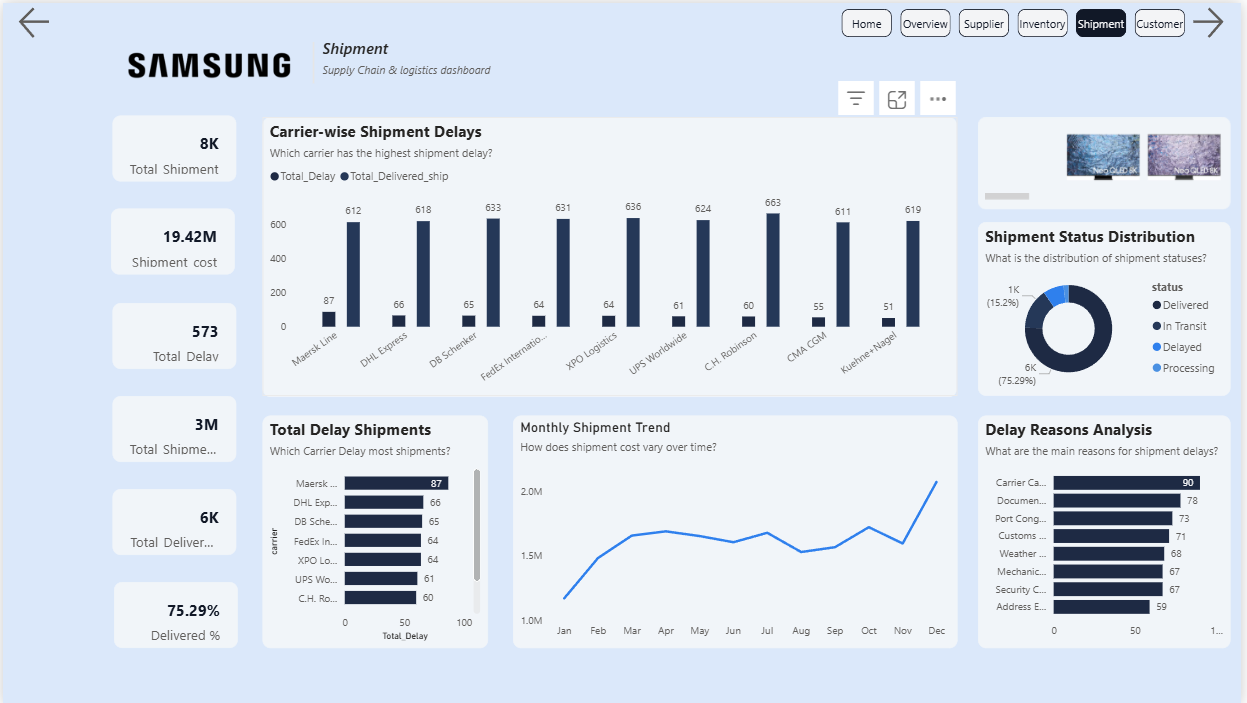

The page's visual inventory and layout, read from the dashboard file:
{"tool":"powerbi","page":{"name":"Shipment","canvas":[1500,850],"ordinal":4},"visuals":[{"type":"shape","title":"Shipment","box":[387.1,41.4,275.7,135.7],"z":0},{"type":"shape","box":[315.7,47.1,120,50],"z":1000},{"type":"image","box":[131.4,12.9,228.6,124.3],"z":2000},{"type":"cardVisual","fields":{"Data":["MeasuresTable.Shipment_cost"]},"box":[131.3,249.7,150,80],"z":3000},{"type":"cardVisual","fields":{"Data":["MeasuresTable.Total_Shipment_Quantity"]},"box":[133.3,475.9,150,80],"z":4000},{"type":"cardVisual","fields":{"Data":["MeasuresTable.Total_Delay"]},"box":[133.3,362.8,150,80],"z":5000},{"type":"cardVisual","fields":{"Data":["MeasuresTable.Delivered %"]},"box":[134,702,150,80],"z":6000},{"type":"cardVisual","fields":{"Data":["MeasuresTable.Total_Delivered_ship"]},"box":[133.3,588.9,150,80],"z":7000},{"type":"cardVisual","fields":{"Data":["MeasuresTable.Total_Shipment"]},"box":[133.3,136.7,150,80],"z":8000},{"type":"clusteredBarChart","title":"Total Delay Shipments","fields":{"Y":["MeasuresTable.Total_Delay"],"Category":["fact_shipment.carrier"]},"box":[315.3,500.4,273.1,282.3],"z":9000},{"type":"clusteredColumnChart","title":"Carrier-wise Shipment Delays","fields":{"Y":["MeasuresTable.Total_Delay","MeasuresTable.Total_Delivered_ship"],"Category":["fact_shipment.carrier"]},"box":[315.3,137.5,841.3,339.1],"z":10000},{"type":"lineChart","title":"Monthly Shipment Trend","fields":{"Y":["MeasuresTable.Shipment_cost"],"Category":["dim_date.Month_Short"]},"box":[617.7,500.4,538.9,282.3],"z":11000},{"type":"clusteredBarChart","title":"Delay Reasons Analysis","fields":{"Category":["fact_shipment.delay_reason"],"Y":["MeasuresTable.Total_Delay"]},"box":[1180.4,500.4,306.1,282.3],"z":12000},{"type":"donutChart","title":"Shipment Status Distribution","fields":{"Category":["fact_shipment.status"],"Y":["MeasuresTable.Total_Shipment"]},"box":[1180.4,265.8,306.1,210.8],"z":13000},{"type":"advancedSlicerVisual","fields":{"Values":["dim_product.product_name"]},"box":[1180.4,137.5,306.1,111.8],"z":14000},{"type":"actionButton","box":[1435.2,0,64.2,47.7],"z":15000},{"type":"pageNavigator","box":[1015.5,7.3,419.8,34.8],"z":16000},{"type":"actionButton","box":[14.7,0,86.2,47.7],"z":17000}]}

Visuals, with their boxes in screenshot pixels (x1, y1, x2, y2), scaled from the page's 1500x850 canvas onto the 1247x703 screenshot:
"Shipment" shape: box(322, 34, 551, 146)
shape: box(262, 39, 362, 80)
image: box(109, 11, 299, 113)
cardVisual - MeasuresTable.Shipment_cost: box(109, 207, 234, 273)
cardVisual - MeasuresTable.Total_Shipment_Quantity: box(111, 394, 236, 460)
cardVisual - MeasuresTable.Total_Delay: box(111, 300, 236, 366)
cardVisual - MeasuresTable.Delivered %: box(111, 581, 236, 647)
cardVisual - MeasuresTable.Total_Delivered_ship: box(111, 487, 236, 553)
cardVisual - MeasuresTable.Total_Shipment: box(111, 113, 236, 179)
"Total Delay Shipments" clusteredBarChart: box(262, 414, 489, 647)
"Carrier-wise Shipment Delays" clusteredColumnChart: box(262, 114, 962, 394)
"Monthly Shipment Trend" lineChart: box(514, 414, 962, 647)
"Delay Reasons Analysis" clusteredBarChart: box(981, 414, 1236, 647)
"Shipment Status Distribution" donutChart: box(981, 220, 1236, 394)
advancedSlicerVisual - dim_product.product_name: box(981, 114, 1236, 206)
actionButton: box(1193, 0, 1246, 39)
pageNavigator: box(844, 6, 1193, 35)
actionButton: box(12, 0, 84, 39)
